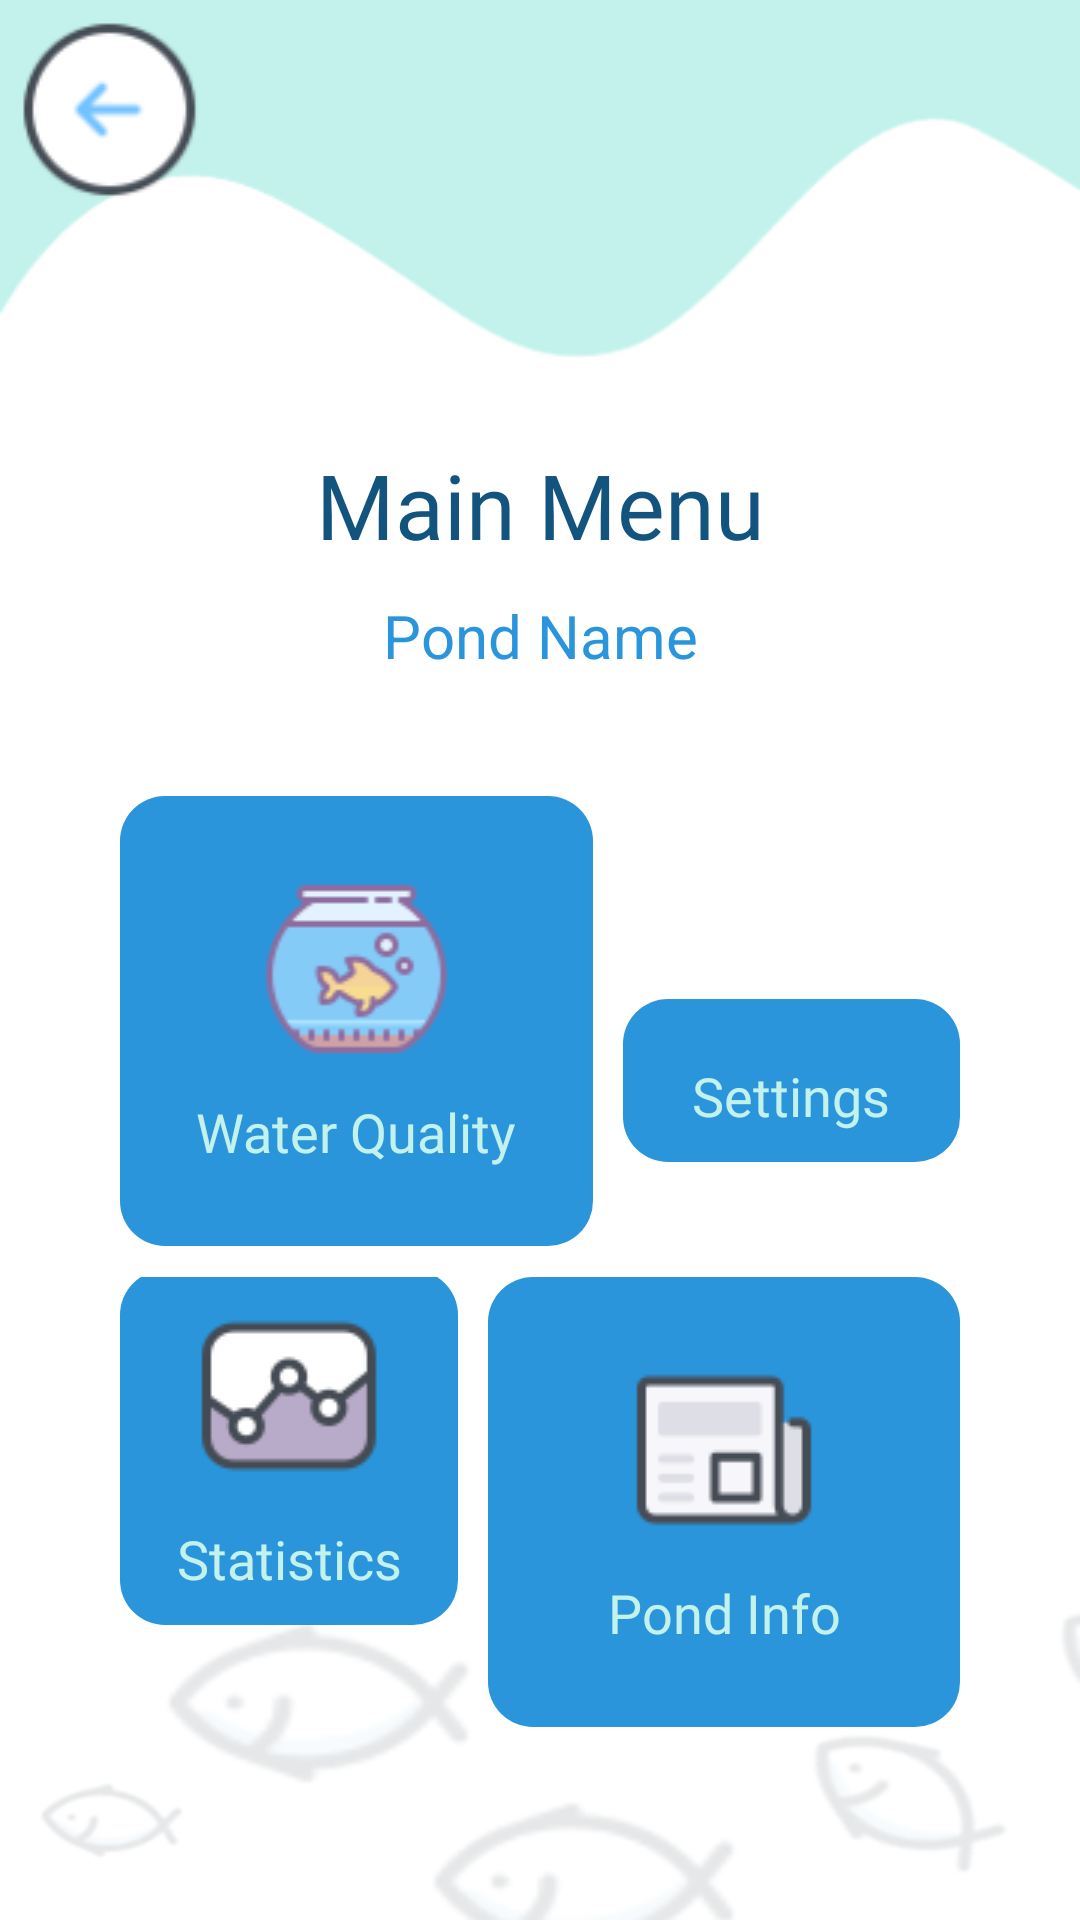

Icon bounding boxes for this 1080*1920 phone screenshot, format (x1, y1, x2, y2):
back: (23, 23, 204, 204)
